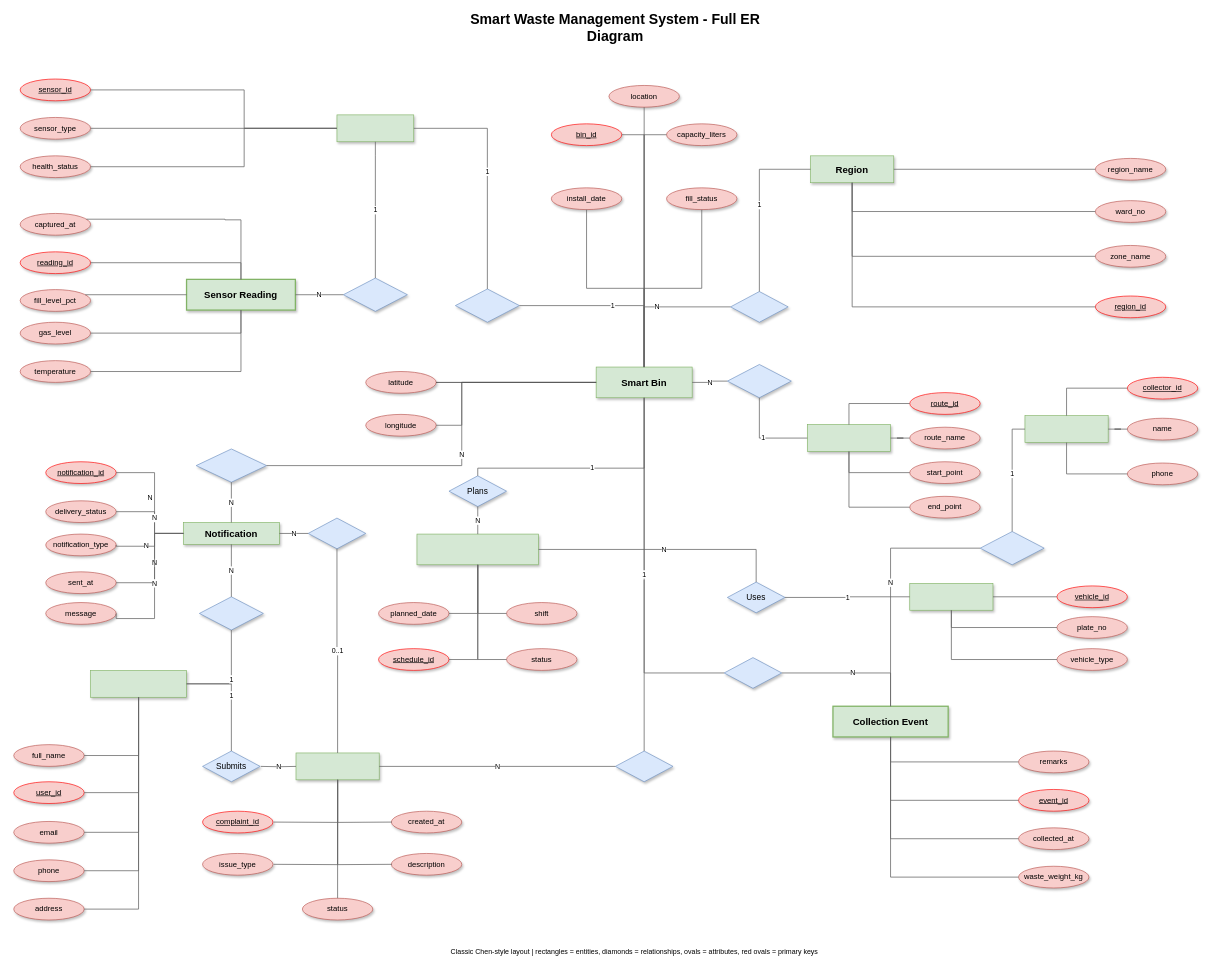
This 1213x971 diagram has some shape labels left out. Here are the shapes that lost their labels. From the top down, the centre of each, then its label:
At point (376, 129): "Sensor".
At point (375, 295): "Generates".
At point (487, 306): "Monitors".
At point (759, 307): "Contains".
At point (759, 381): "Assigned To".
At point (849, 438): "Route".
At point (1067, 429): "Collector".
At point (231, 466): "Triggered By".
At point (337, 534): "Notifies".
At point (478, 550): "Collection Schedule".
At point (1012, 548): "Performs".
At point (231, 614): "Receives".
At point (952, 597): "Vehicle".
At point (138, 684): "Citizen/User".
At point (753, 673): "For Bin".
At point (338, 767): "Complaint".
At point (644, 767): "About".
